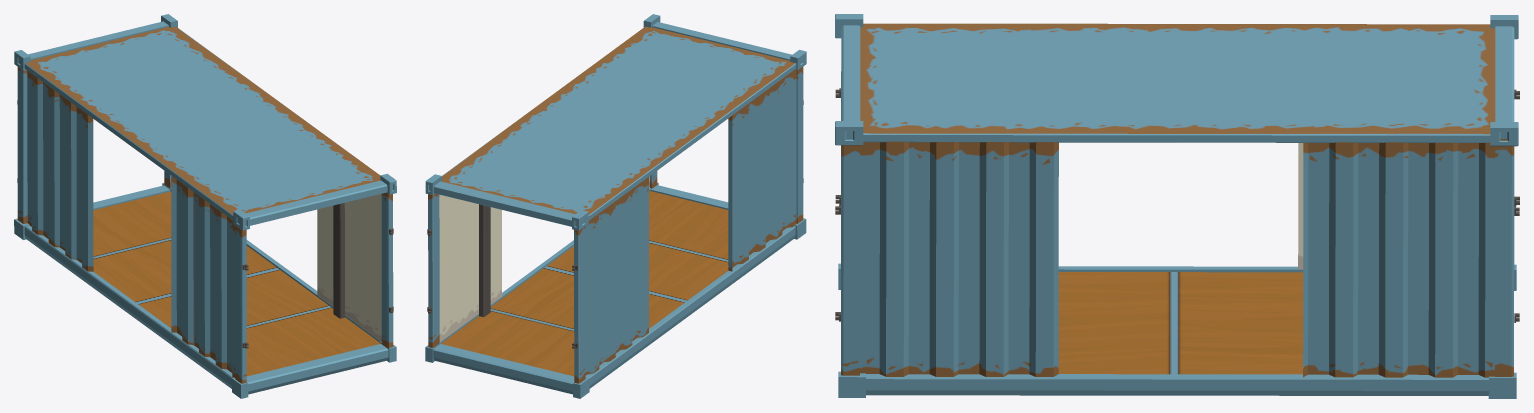
The model's file is shipping container.glb.
3 renders of one model, left to right at view 1: azimuth 30°, elevation 25°; view 2: azimuth 150°, elevation 25°; view 3: azimuth 270°, elevation 25°, orthographic. The views are drawn at different scales.
Parts seen in each view (by area): view 1: Shipping_Container_LOD0; view 2: Shipping_Container_LOD0; view 3: Shipping_Container_LOD0.
Boxes of the visible parts, <box> form: Shipping_Container_LOD0: <box>14,14,396,398</box>; Shipping_Container_LOD0: <box>425,14,806,398</box>; Shipping_Container_LOD0: <box>835,14,1519,398</box>.
Bounding box in the file's own units: 2.57 × 2.87 × 6.55.
1 material, 1 textured.
